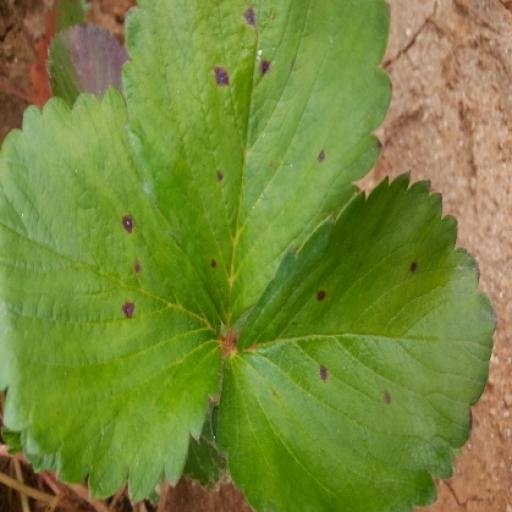Leaf Spot: (210, 170, 497, 511), (0, 83, 225, 504), (121, 0, 395, 330)
